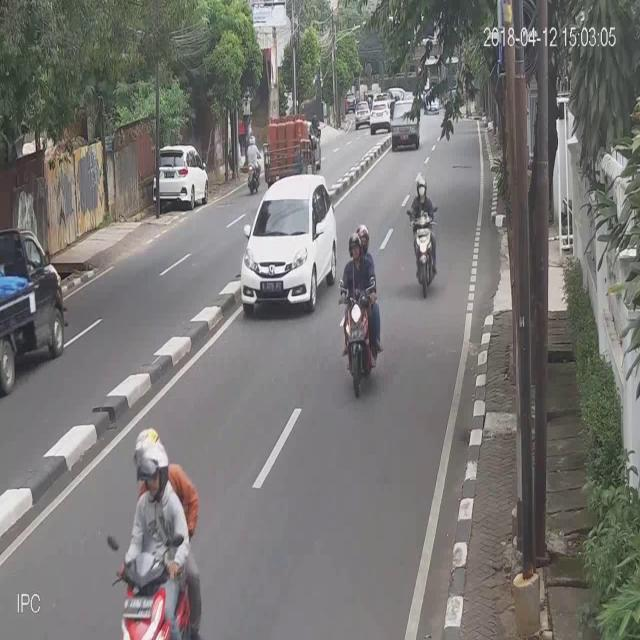bus: (107, 426, 205, 639), (338, 225, 384, 402), (406, 170, 440, 300), (242, 130, 261, 193)
motorcycle: (238, 173, 334, 315), (151, 136, 209, 212), (391, 95, 419, 152), (370, 99, 390, 135), (354, 99, 369, 129)
